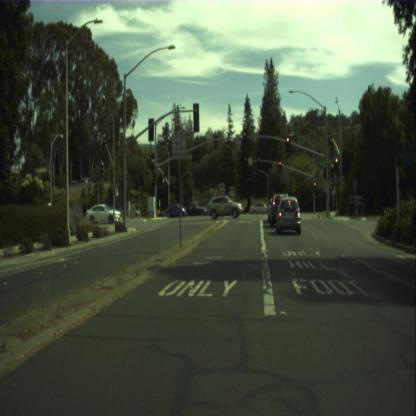Red: (285, 135, 290, 152), (312, 179, 318, 192), (330, 162, 334, 178), (334, 157, 338, 171), (323, 163, 326, 179), (278, 160, 282, 170), (242, 130, 246, 140), (244, 155, 247, 165), (257, 156, 260, 165)
Yellow: (329, 183, 333, 190)
